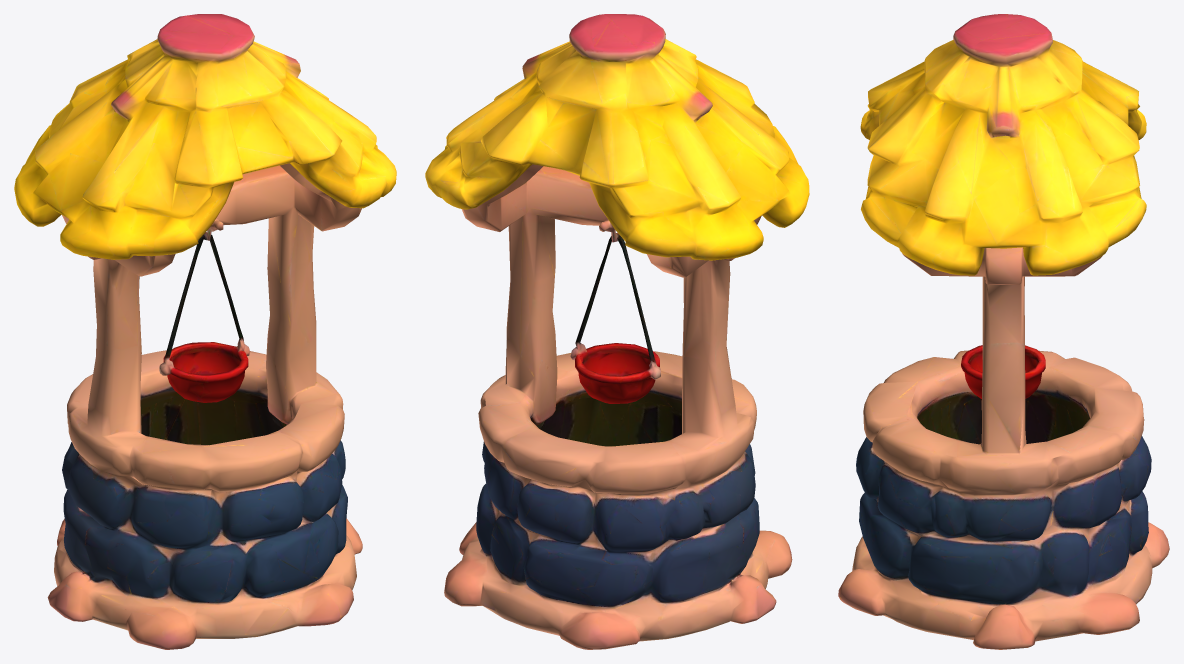
The model's file is clay-well.glb.
3 renders of one model, left to right at view 1: azimuth 30°, elevation 25°; view 2: azimuth 150°, elevation 25°; view 3: azimuth 270°, elevation 25°, orthographic.
Size of the model in its own units: 1.18 by 1.91 by 1.05.
Materials: 1 (1 with a texture image).
